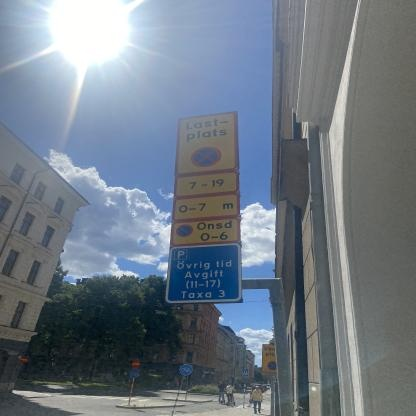lastplats: (174, 112, 238, 178)
